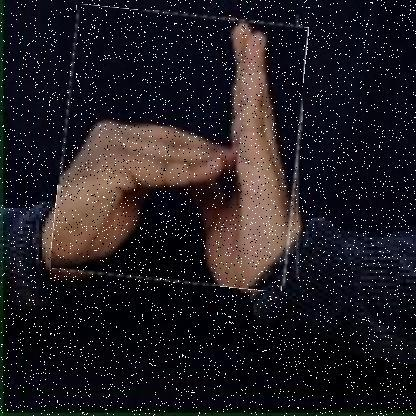Z: (57, 10, 302, 287)
